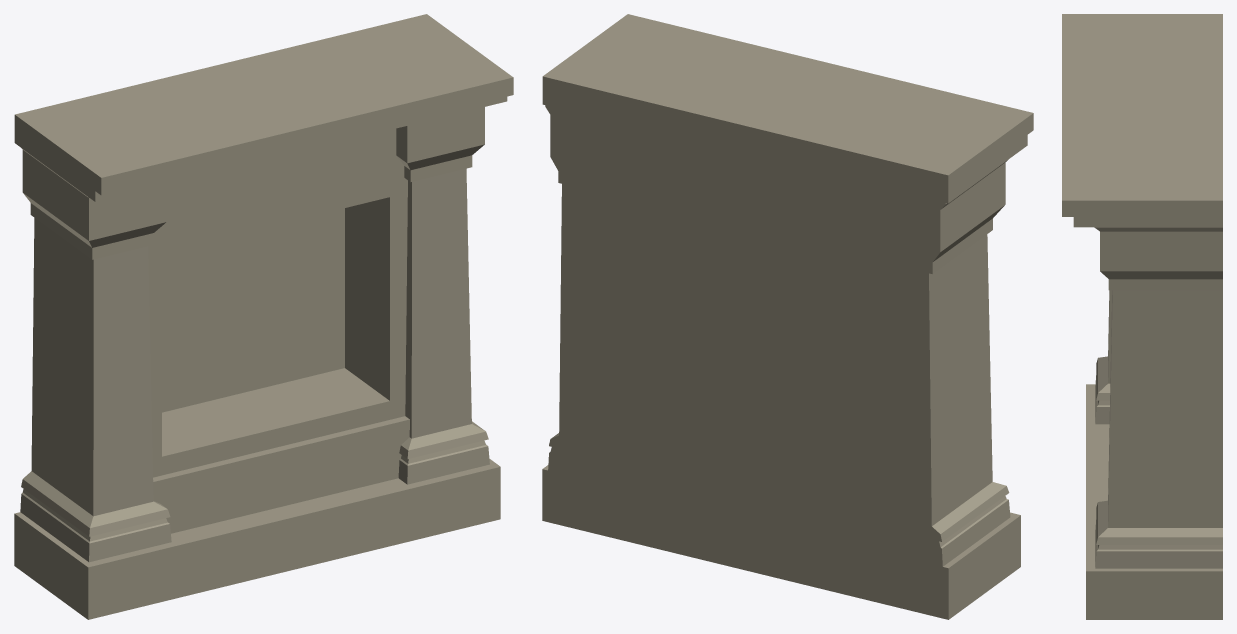
Rendered from decor-fireplace.glb.
3 renders of one model, left to right at view 1: azimuth 30°, elevation 25°; view 2: azimuth 150°, elevation 25°; view 3: azimuth 270°, elevation 25°, orthographic. The views are drawn at different scales.
Parts seen in each view (by area): view 1: Fireplace; view 2: Fireplace; view 3: Fireplace.
Part boxes in pixels (bbox=[...]): Fireplace: bbox=[14, 14, 513, 619]; Fireplace: bbox=[542, 14, 1033, 619]; Fireplace: bbox=[1062, 14, 1222, 619].
Bounding box in the file's own units: 1.1 × 1.15 × 0.4.
